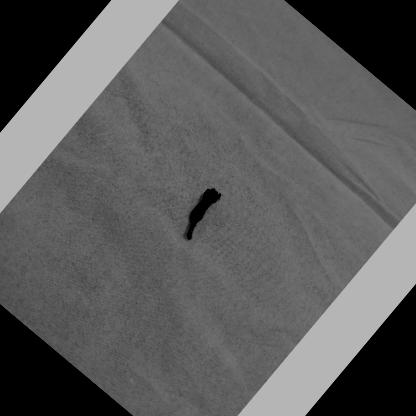sedang: (191, 190, 222, 224)
